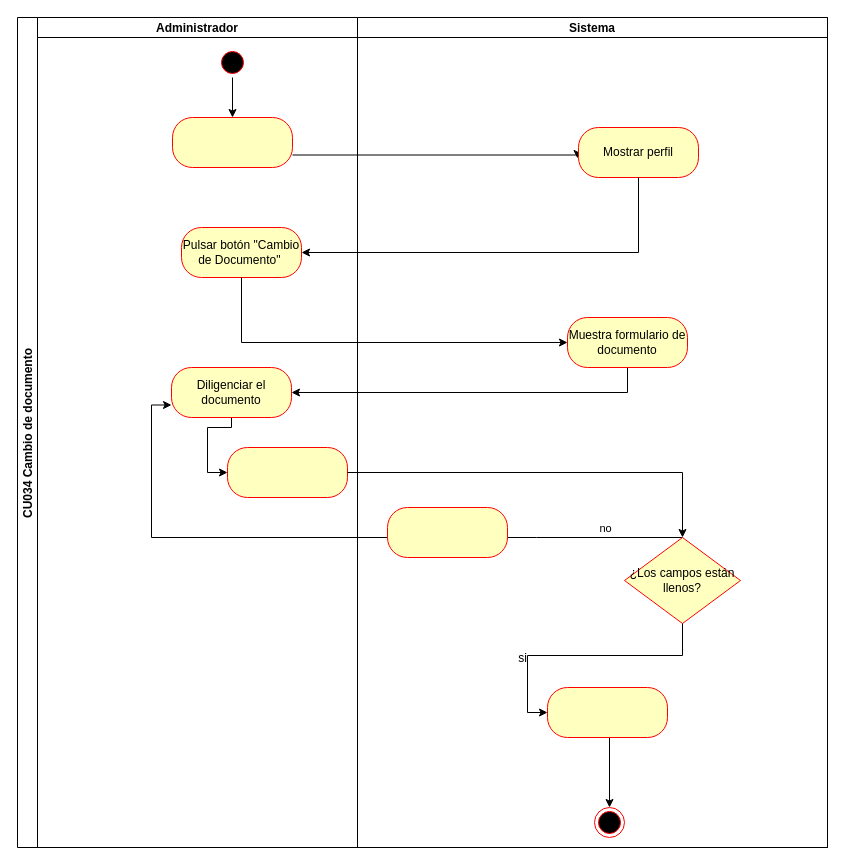
This 845x865 diagram has some shape labels left out. The shapes that lost their labels are listed below. From the top down, each one's centre as x and y in pixels, then its label:
[232,142]: Pulsar el apartado "Perfil"
[287,472]: Pulsar botón "Guardar"
[447,532]: Muestra mensaje de error
[607,712]: Actualiza el documento
